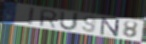8: (122, 21, 139, 40)
9: (82, 15, 98, 33)
I: (27, 6, 37, 27)
N: (100, 17, 121, 38)
R: (39, 9, 58, 29)
U: (58, 10, 81, 32)
